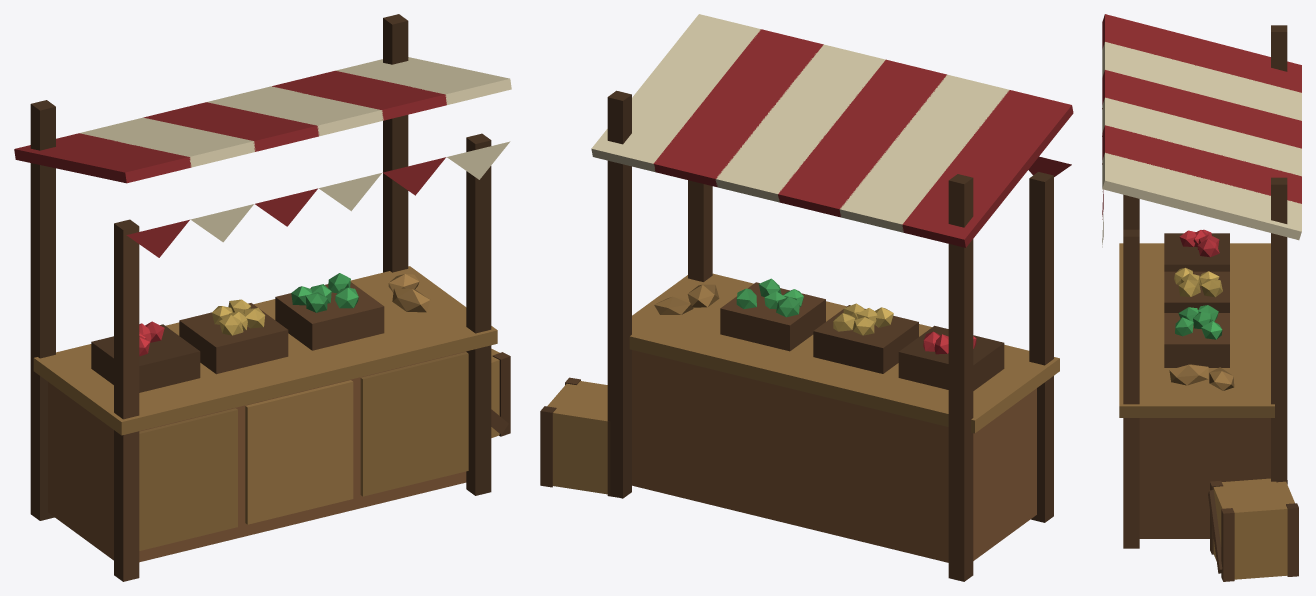
The model's file is market_stall.glb.
The picture shows the model from 3 angles, left to right: view 1: azimuth 30°, elevation 25°; view 2: azimuth 150°, elevation 25°; view 3: azimuth 270°, elevation 25°; orthographic projection. The views are drawn at different scales.
Parts seen in each view (by area): view 1: market_stall; view 2: market_stall; view 3: market_stall.
Part boxes in pixels (<box>): market_stall: <box>14,14,511,581</box>; market_stall: <box>540,14,1073,581</box>; market_stall: <box>1102,14,1301,581</box>.
Size of the model in its own units: 2.82 by 2.51 by 1.22.
